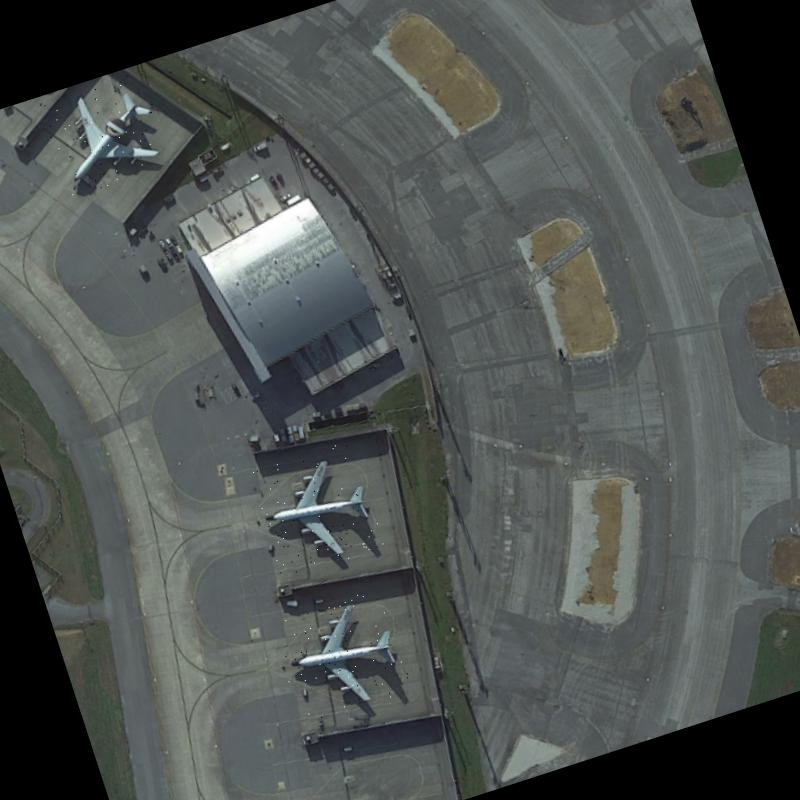A11: (269, 586, 416, 728), (246, 440, 386, 582)
A7: (38, 69, 174, 200)
